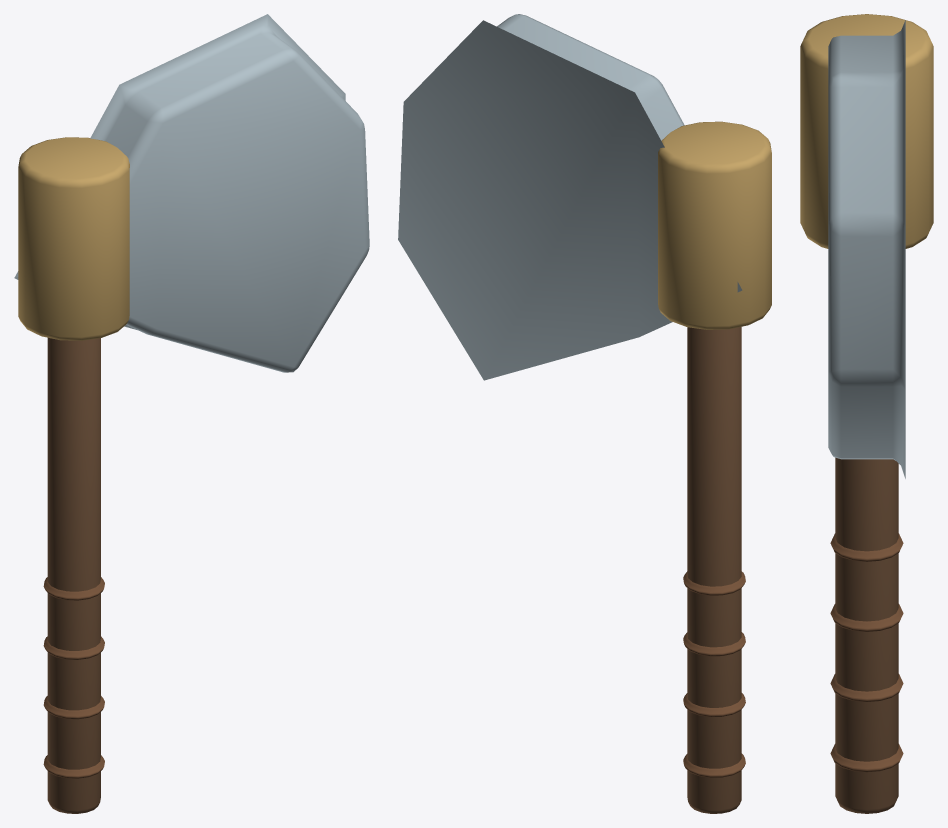
The model's file is iron_axe.glb.
The picture shows the model from 3 angles, left to right: view 1: azimuth 30°, elevation 25°; view 2: azimuth 150°, elevation 25°; view 3: azimuth 270°, elevation 25°; orthographic projection. The views are drawn at different scales.
Parts seen in each view (by area): view 1: Bearded axe head, Bound haft, Axe eye, Grip binding.003, Grip binding; view 2: Bearded axe head, Bound haft, Axe eye, Grip binding.003; view 3: Bearded axe head, Bound haft, Axe eye, Grip binding, Grip binding.001, Grip binding.002, Grip binding.003.
Part boxes in pixels (<box>): Bearded axe head: <box>14,14,369,372</box>; Bound haft: <box>47,337,100,813</box>; Axe eye: <box>18,137,129,340</box>; Grip binding.003: <box>43,577,104,600</box>; Grip binding: <box>43,755,104,778</box>; Bearded axe head: <box>398,14,742,380</box>; Bound haft: <box>687,327,741,813</box>; Axe eye: <box>658,121,771,329</box>; Grip binding.003: <box>683,571,745,595</box>; Bearded axe head: <box>828,20,905,478</box>; Bound haft: <box>835,457,898,813</box>; Axe eye: <box>800,14,933,248</box>; Grip binding: <box>830,744,903,772</box>; Grip binding.001: <box>830,674,903,701</box>; Grip binding.002: <box>830,604,903,631</box>; Grip binding.003: <box>830,533,903,561</box>.
Bounding box in the file's own units: 0.6633 × 1.35 × 0.19.
